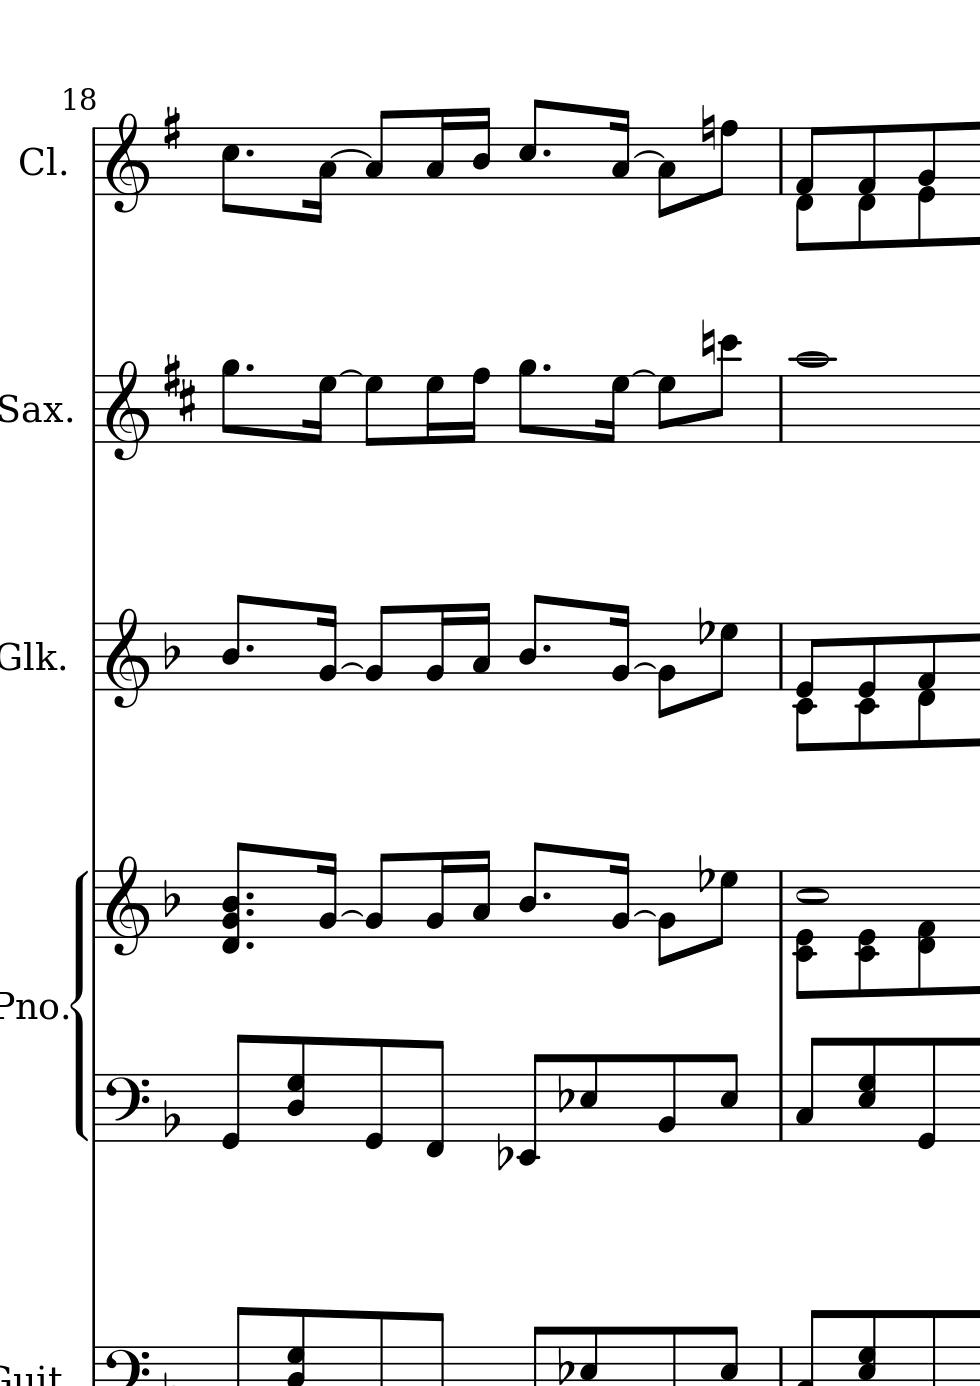1: (62, 85, 76, 113)
16_2: (422, 850, 453, 940), (422, 603, 452, 692), (314, 603, 339, 691), (315, 850, 339, 938), (607, 850, 631, 938), (608, 603, 631, 691)
16_3: (303, 125, 337, 224), (423, 107, 453, 197), (607, 107, 631, 196), (469, 601, 492, 692), (469, 848, 491, 940)
16_4: (470, 105, 492, 197)
16_7: (302, 373, 336, 446), (596, 373, 629, 446), (423, 372, 445, 448)
16_8: (461, 367, 490, 445)
1_10: (794, 351, 829, 445)
8: (78, 84, 97, 113)
8_-1: (421, 1038, 448, 1158)
8_-1_1: (794, 126, 821, 253), (856, 124, 878, 251), (916, 621, 938, 751), (916, 869, 937, 997)
8_-2: (514, 1051, 547, 1166)
8_-2_0: (853, 621, 881, 751), (793, 621, 821, 754), (853, 869, 880, 998)
8_0: (217, 1031, 253, 1152), (361, 1037, 387, 1152), (914, 1034, 939, 1153)
8_0_2: (916, 121, 941, 250)
8_12: (705, 333, 740, 444)
8_2: (362, 603, 392, 691), (363, 850, 392, 938), (655, 1052, 679, 1143), (655, 869, 677, 968), (655, 622, 677, 720)
8_3: (794, 1035, 823, 1144), (363, 108, 393, 197), (657, 126, 677, 220)
8_4: (218, 592, 250, 692), (517, 840, 548, 940), (517, 592, 547, 692)
8_4_7: (285, 1036, 307, 1144)
8_5: (517, 97, 546, 196), (717, 1052, 740, 1143), (218, 125, 240, 216), (578, 1052, 599, 1143)
8_5_7: (858, 1036, 878, 1144)
8_7: (707, 869, 736, 951), (708, 621, 737, 702), (362, 374, 384, 449), (655, 373, 677, 444)
8_8: (710, 119, 739, 200)
8_9: (515, 358, 537, 444), (220, 357, 240, 443)
8_th: (218, 839, 248, 962)
Brace: (69, 866, 89, 1142)
Cl: (17, 143, 58, 180)
Fclef: (101, 1072, 151, 1145)
Flat: (158, 877, 181, 920), (159, 1096, 182, 1140), (554, 1072, 575, 1113), (160, 630, 180, 671), (493, 1131, 513, 1173), (555, 1345, 574, 1386), (695, 853, 712, 895), (696, 606, 712, 647)
Gclef: (103, 604, 152, 710), (103, 853, 151, 957), (105, 110, 150, 215), (104, 357, 148, 462)
Natural: (699, 103, 716, 153), (698, 317, 715, 366)
Pno: (1, 987, 62, 1024)
Sax: (1, 390, 65, 429)
Sharp: (160, 104, 183, 153)
Single_barline: (772, 1074, 790, 1141), (87, 870, 104, 938), (86, 128, 103, 196), (772, 622, 789, 690), (772, 871, 789, 938), (772, 129, 789, 194), (86, 622, 102, 691), (772, 376, 788, 441), (87, 375, 102, 443), (88, 1074, 103, 1142)
Slur: (331, 148, 370, 159), (632, 150, 666, 161), (631, 368, 657, 378), (338, 368, 363, 378), (632, 662, 657, 671), (632, 910, 657, 919), (339, 662, 365, 670), (339, 910, 365, 918)
dot: (242, 145, 256, 160), (242, 361, 255, 375), (243, 641, 256, 655), (243, 889, 256, 902), (540, 890, 553, 903), (539, 146, 552, 159), (243, 906, 256, 918), (540, 361, 552, 374), (244, 938, 256, 952), (540, 642, 552, 654)
